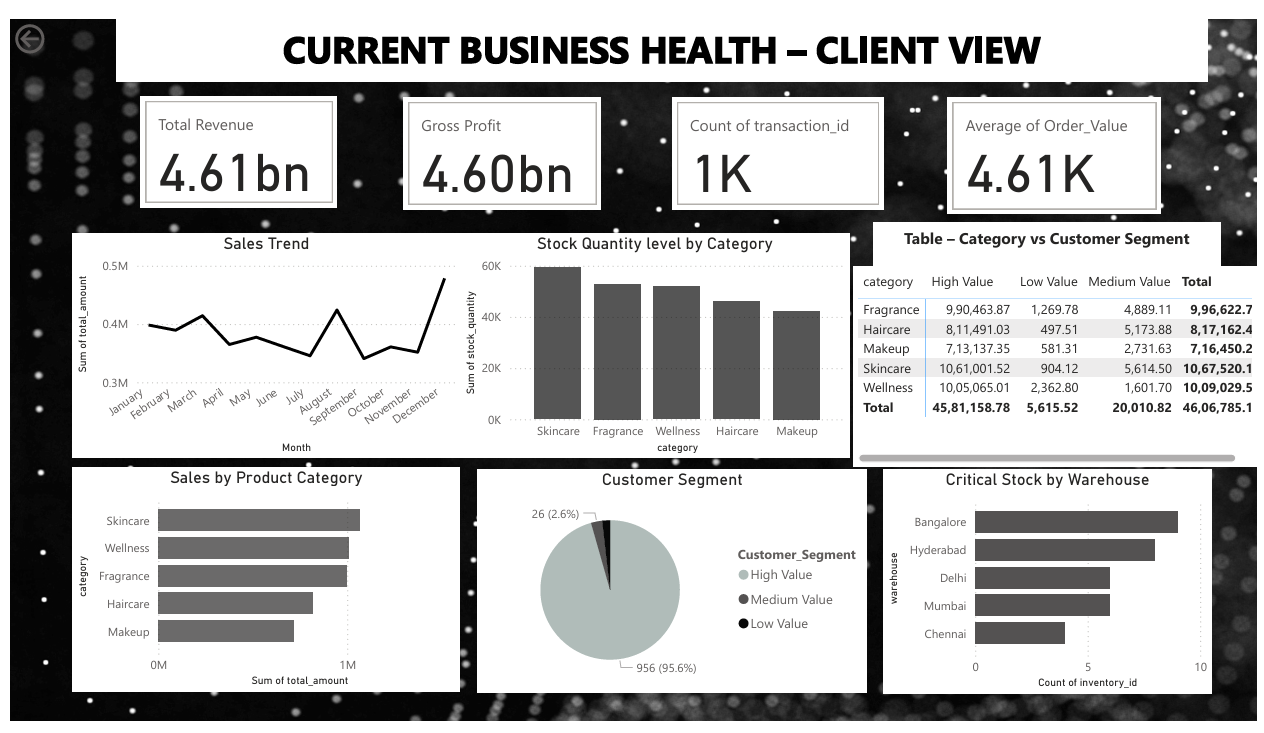

The page's visual inventory and layout, read from the dashboard file:
{"tool":"powerbi","page":{"name":"Page 5","canvas":[1280,720],"ordinal":4},"visuals":[{"type":"textbox","box":[10.6,0,1268.9,75.7],"z":0},{"type":"cardVisual","fields":{"Data":["Sum(transactions.Total_Revenue)"]},"box":[140.8,65.1,201.4,113.6],"z":1000},{"type":"cardVisual","fields":{"Data":["transactions.Gross Profit"]},"box":[416.4,63.6,201.4,113.6],"z":2000},{"type":"cardVisual","fields":{"Data":["CountNonNull(transactions.transaction_id)"]},"box":[705.6,63.6,216.5,113.6],"z":3000},{"type":"cardVisual","fields":{"Data":["Avg(transactions.Avg_Order_Value)"]},"box":[993.3,62.1,218,119.6],"z":4000},{"type":"lineChart","title":"Sales Trend","fields":{"Category":["transactions.purchase_date.Variation.Date Hierarchy.Month"],"Y":["Sum(transactions.total_amount)"]},"box":[63.6,219.6,398.2,230.2],"z":5000},{"type":"barChart","title":"Sales by Product Category","fields":{"Category":["products.category"],"Y":["Sum(transactions.total_amount)"]},"box":[64,460,398,230],"z":6000},{"type":"clusteredColumnChart","title":"Stock Quantity level by Category ","fields":{"Category":["products.category"],"Y":["Sum(products.stock_quantity)"]},"box":[461.8,219.6,399.8,230.2],"z":7000},{"type":"pieChart","title":"Customer Segment","fields":{"Category":["transactions.Customer_Segment"],"Y":["CountNonNull(transactions.customer_id)"]},"box":[462,460,400,230],"z":8000},{"type":"clusteredBarChart","title":"Critical Stock by Warehouse","fields":{"Category":["inventory.warehouse"],"Y":["CountNonNull(inventory.inventory_id)"]},"box":[922.2,460.3,337.7,230.2],"z":9000},{"type":"actionButton","box":[0,0,100,40],"z":10000},{"type":"pivotTable","title":"Category vs Customer Segment Table","fields":{"Rows":["products.category"],"Columns":["transactions.Customer_Segment"],"Values":["Sum(transactions.total_amount)"]},"box":[866.1,254.4,413.4,205.9],"z":11000},{"type":"textbox","box":[885.8,209,357.4,45.4],"z":12000}]}

Visuals, with their boxes on the page's 1280x720 design canvas (x1, y1, x2, y2). These are canvas units, not pixel positions in the 1264x733 screenshot, which may show the page scaled, cropped or inside an application window:
textbox: 11,0,1280,76
cardVisual - Sum(transactions.Total_Revenue): 141,65,342,179
cardVisual - transactions.Gross Profit: 416,64,618,177
cardVisual - CountNonNull(transactions.transaction_id): 706,64,922,177
cardVisual - Avg(transactions.Avg_Order_Value): 993,62,1211,182
"Sales Trend" lineChart: 64,220,462,450
"Sales by Product Category" barChart: 64,460,462,690
"Stock Quantity level by Category " clusteredColumnChart: 462,220,862,450
"Customer Segment" pieChart: 462,460,862,690
"Critical Stock by Warehouse" clusteredBarChart: 922,460,1260,690
actionButton: 0,0,100,40
"Category vs Customer Segment Table" pivotTable: 866,254,1280,460
textbox: 886,209,1243,254
